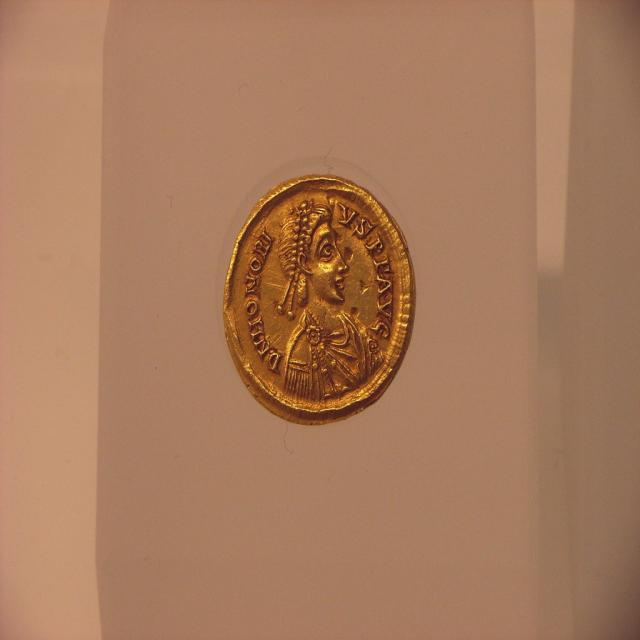Coin: (222, 174, 414, 423)
